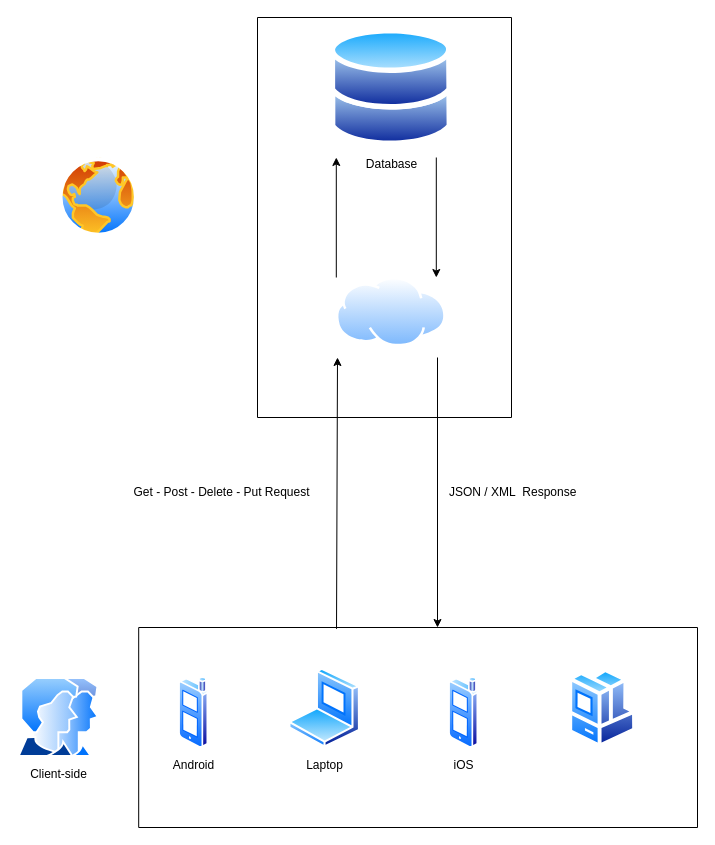
The diagram is 715 pixels wide and 845 high, and some of its shapes have lost their labels. The box of each missing label's shape, as (x1, y1, x2, y2) in pixels:
PC: (568, 668, 636, 748)
Server-side: (58, 157, 138, 237)
{.........} Restful API: (336, 277, 446, 346)
